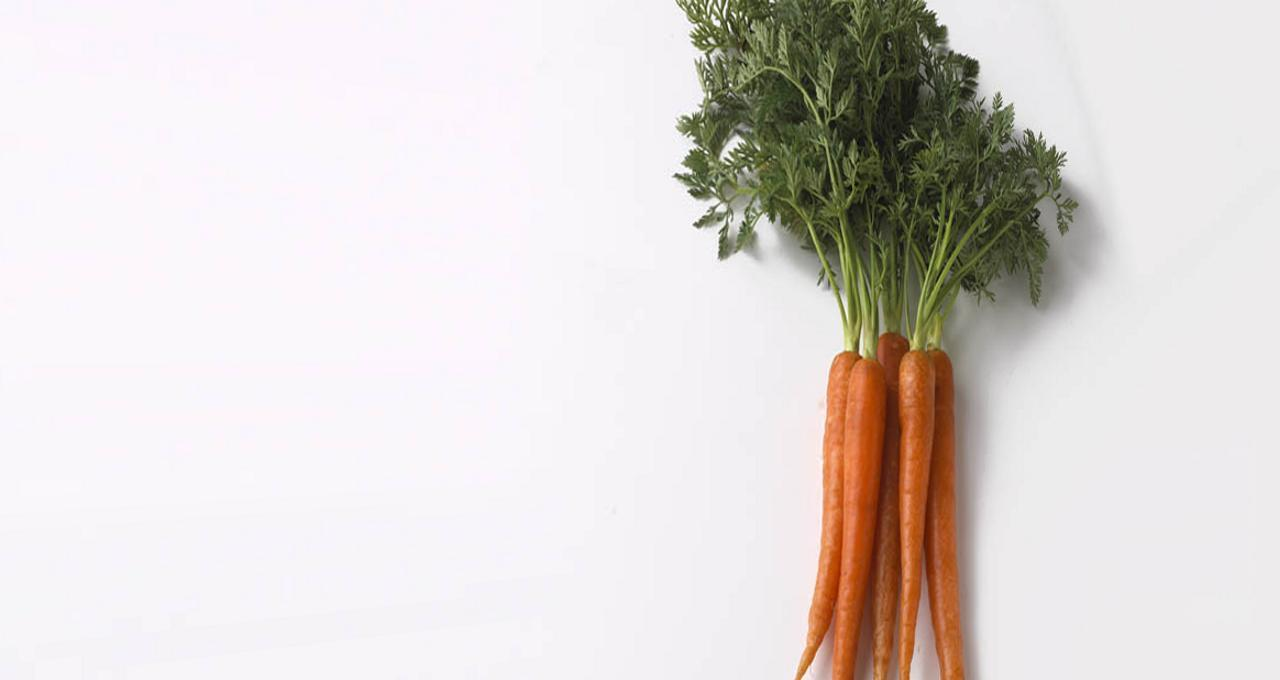carrot: (781, 330, 1001, 680), (887, 347, 961, 680), (818, 349, 884, 680)
